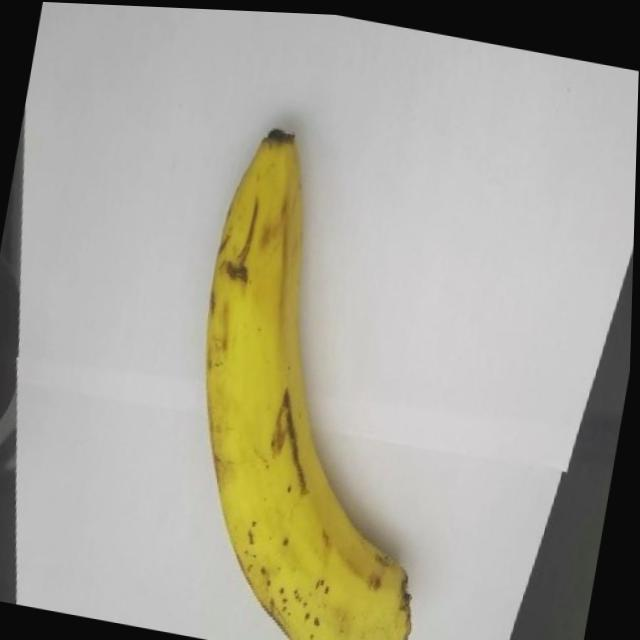Banana: (155, 115, 492, 640)
